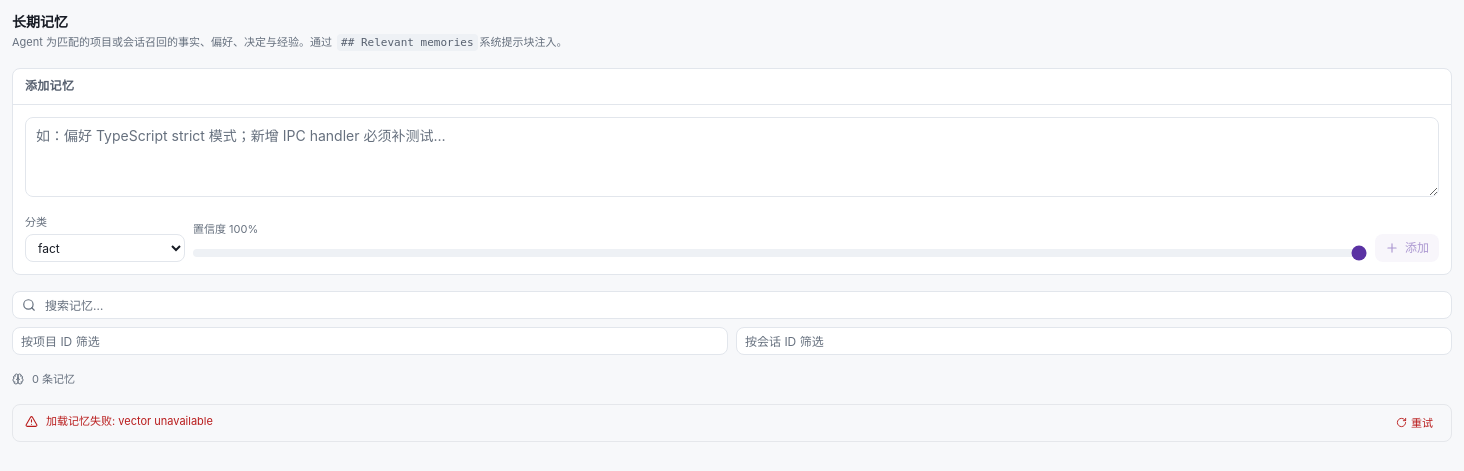
panel load error banners (P1-7) › MemoryTab shows a retryable banner when the list fails to load
Expected: the message with test id "settings-memory-error" shows "vector unavailable", [46,414,213,428]
Click the button with test id "settings-memory-error-retry" at (1414, 423), box [1390,412,1439,433]
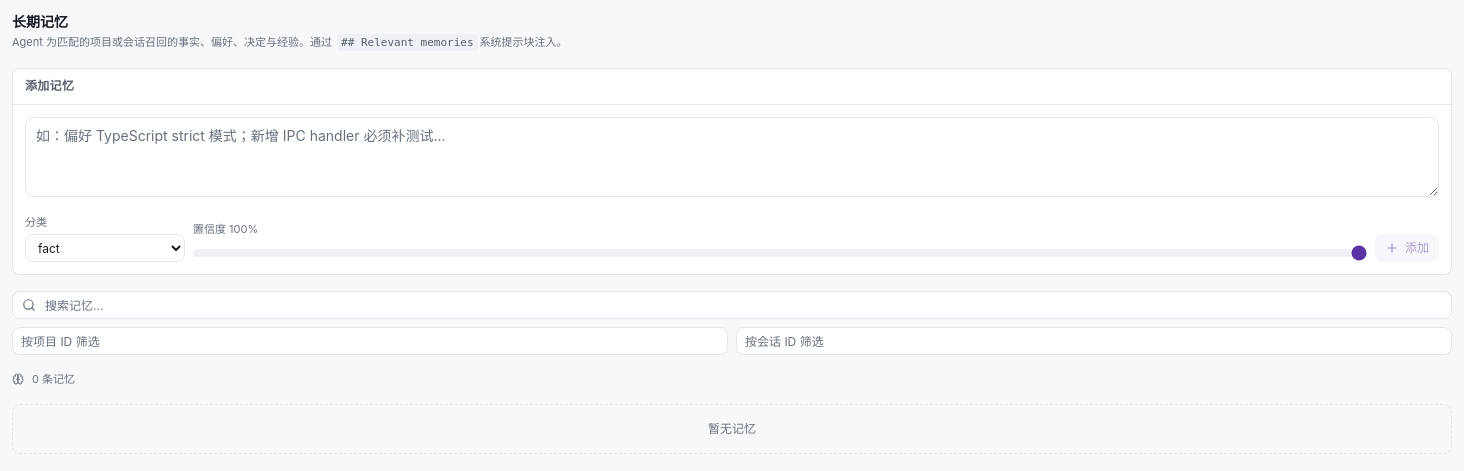
Expected: the message with test id "settings-memory-error" is gone
